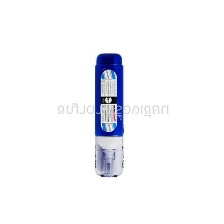correction_fluid: (90, 48, 126, 179)
